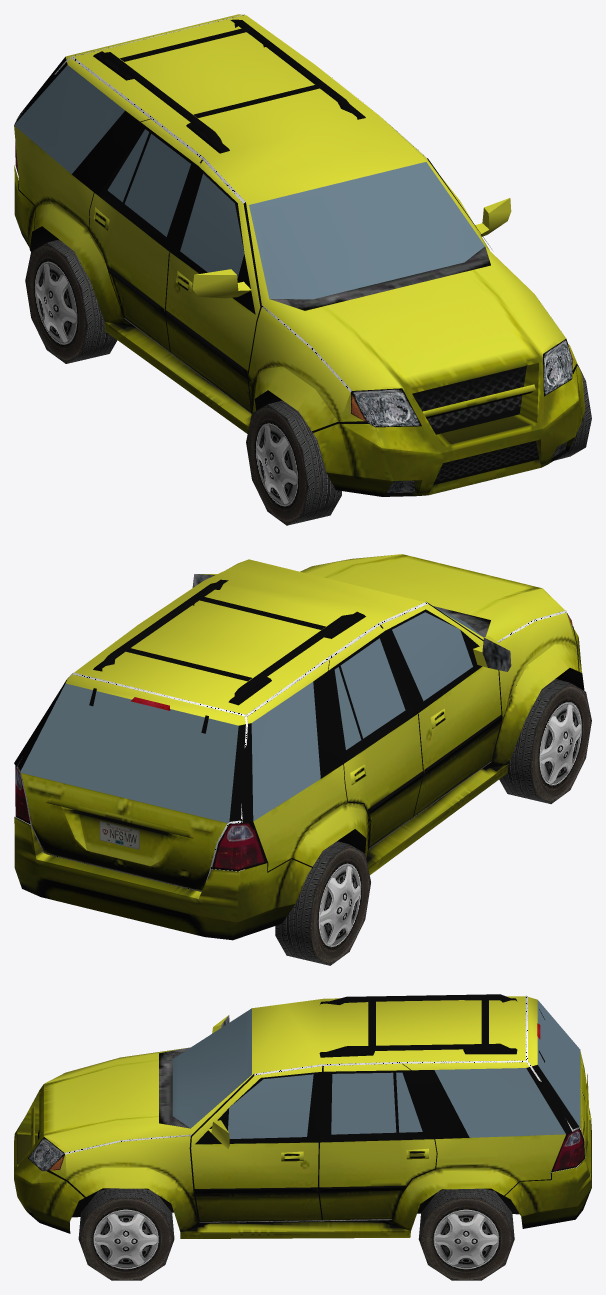
Rendered from trafsuva.glb.
3 views of the same model, one above another, from view 1: azimuth 30°, elevation 25°; view 2: azimuth 150°, elevation 25°; view 3: azimuth 270°, elevation 25° (orthographic). The views are drawn at different scales.
Visible parts, largest first — view 1: body, wheel-front-left, wheel-back-left, wheel-front-right; view 2: body, wheel-back-left, wheel-front-left; view 3: body, wheel-front-right, wheel-back-right.
Part boxes in pixels (bbox=[...]): body: bbox=[14, 14, 585, 496]; wheel-front-left: bbox=[246, 400, 341, 525]; wheel-back-left: bbox=[25, 239, 117, 363]; wheel-front-right: bbox=[554, 365, 591, 460]; body: bbox=[14, 554, 584, 940]; wheel-back-left: bbox=[275, 841, 370, 965]; wheel-front-left: bbox=[499, 679, 591, 803]; body: bbox=[14, 994, 591, 1238]; wheel-front-right: bbox=[78, 1188, 174, 1280]; wheel-back-right: bbox=[418, 1188, 514, 1280].
Bounding box in the file's own units: 2.42 × 1.96 × 4.93.
Materials: 10 (8 with a texture image).
